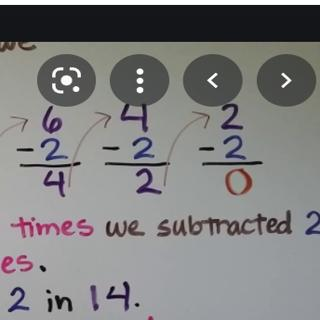.: (37, 262, 48, 276), (133, 299, 142, 308)
0: (224, 167, 251, 196)
1: (88, 282, 99, 312)
2: (135, 168, 162, 197), (131, 137, 155, 163), (222, 134, 245, 160), (222, 102, 243, 130), (7, 285, 28, 311), (305, 211, 320, 237)
4: (118, 100, 150, 135), (43, 168, 69, 201), (107, 281, 132, 312)
6: (41, 106, 63, 134)
